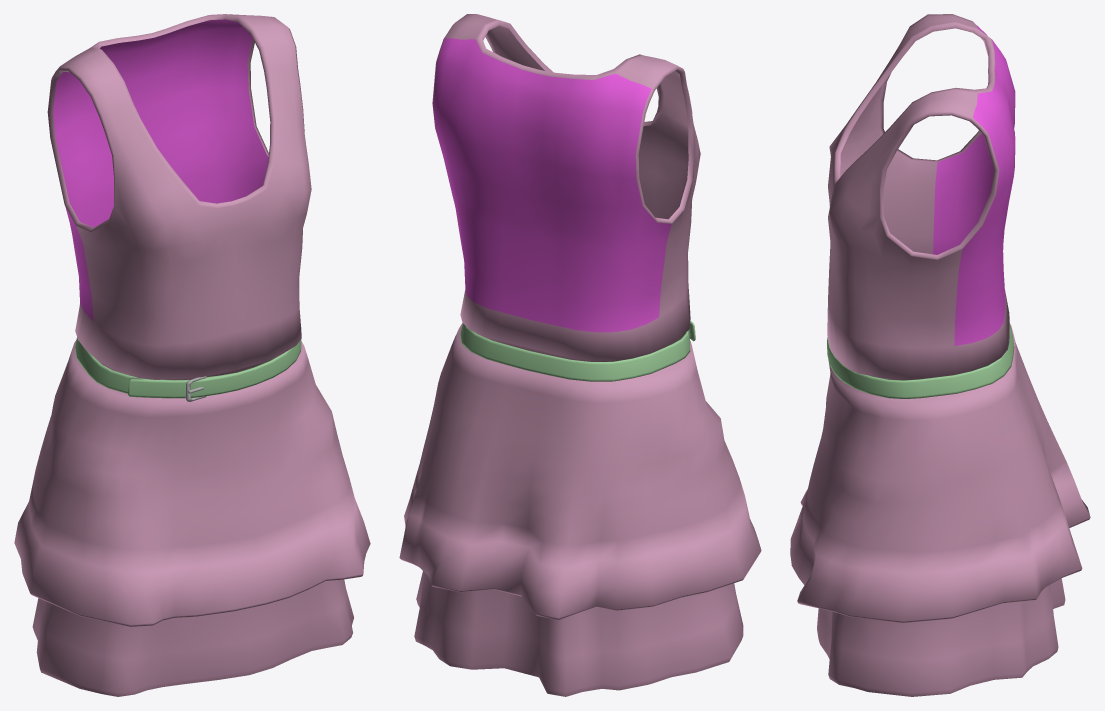
The model's file is vestido.glb.
The picture shows the model from 3 angles, left to right: view 1: azimuth 30°, elevation 25°; view 2: azimuth 150°, elevation 25°; view 3: azimuth 270°, elevation 25°; orthographic projection. The views are drawn at different scales.
Visible parts, largest first — view 1: dress_BubblyDress; view 2: dress_BubblyDress; view 3: dress_BubblyDress.
Part boxes in pixels (x1,y1,x2,y2): dress_BubblyDress: (14, 14, 370, 696); dress_BubblyDress: (399, 14, 761, 696); dress_BubblyDress: (790, 14, 1090, 696).
Size of the model in its own units: 4.66 by 8.16 by 3.87.
